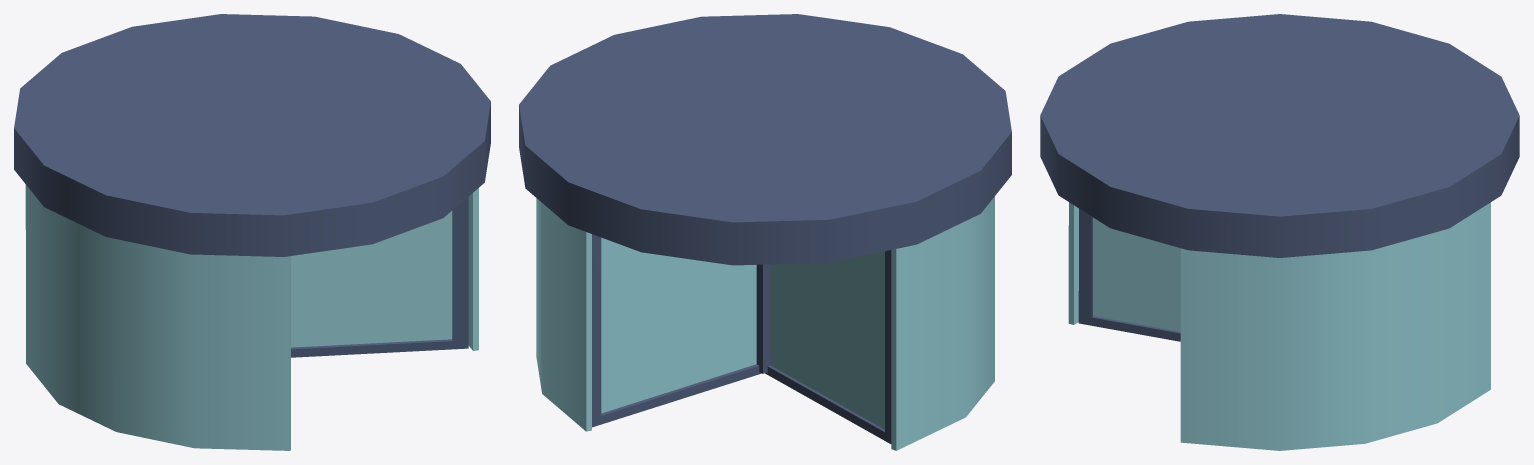
The model's file is rdoor.fbx.
The picture shows the model from 3 angles, left to right: view 1: azimuth 30°, elevation 25°; view 2: azimuth 150°, elevation 25°; view 3: azimuth 270°, elevation 25°; orthographic projection. The views are drawn at different scales.
Visible parts, largest first — view 1: r_door; view 2: r_door; view 3: r_door.
Boxes of the visible parts, left/top/right/bottom form: r_door: left=14, top=14, right=490, bottom=450; r_door: left=519, top=14, right=1011, bottom=450; r_door: left=1040, top=14, right=1519, bottom=450.
Bounding box in the file's own units: 7 × 3.9 × 7.
